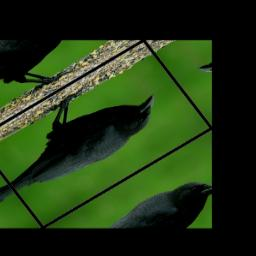Crow: (0, 59, 173, 205)
